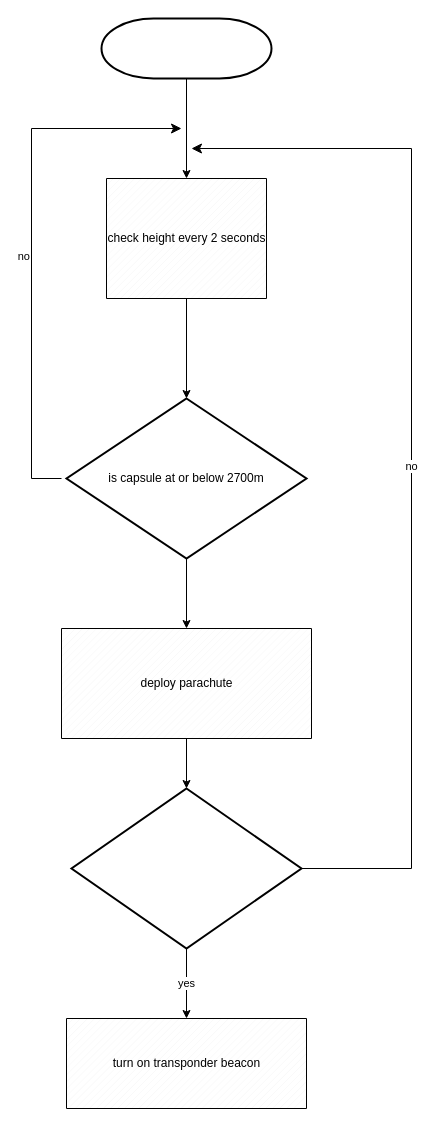
The diagram is 439 pixels wide and 1126 high, and some of its shapes have lost their labels. Here are the shapes that lost their labels. From the top down, the centre of each, then its label:
the point at 186,48: start
the point at 186,868: is capsule at or below 0m
